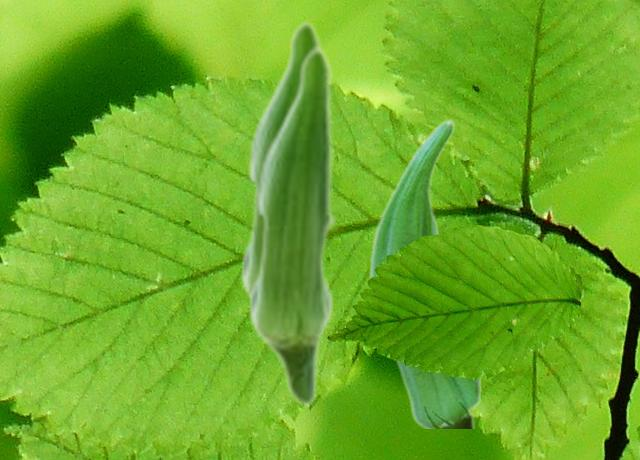okra: (368, 117, 479, 427), (247, 46, 335, 407), (239, 20, 323, 301)
